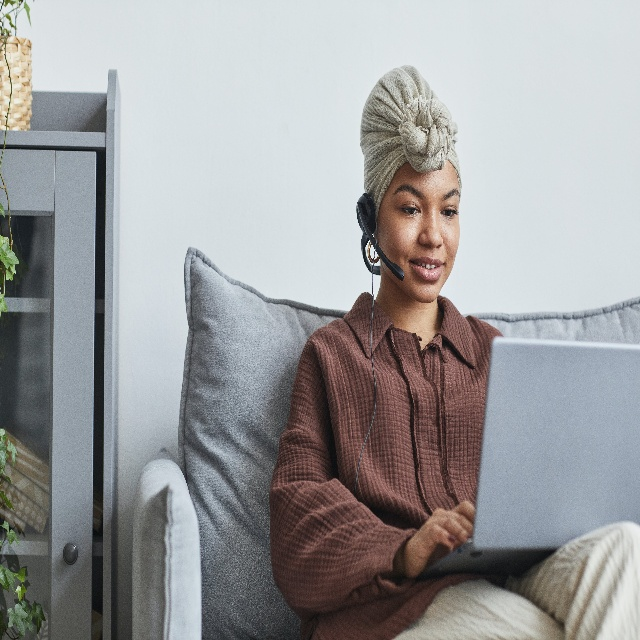Sin_guantes: (400, 499, 478, 571)
